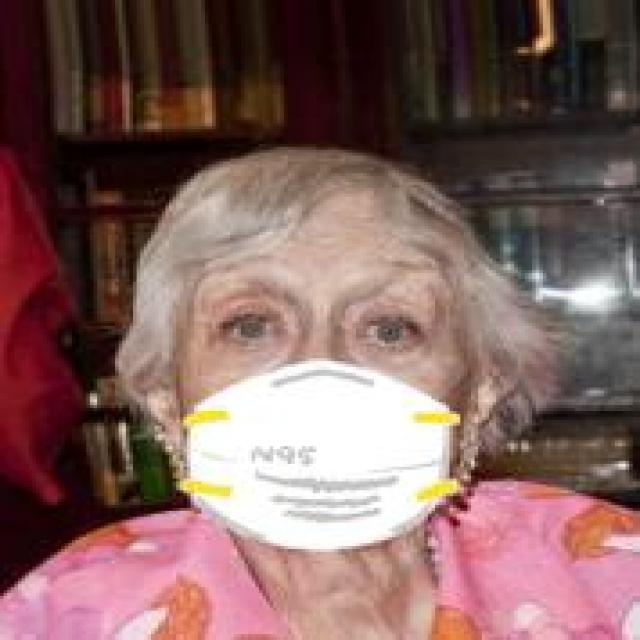mask: (122, 108, 558, 558)
